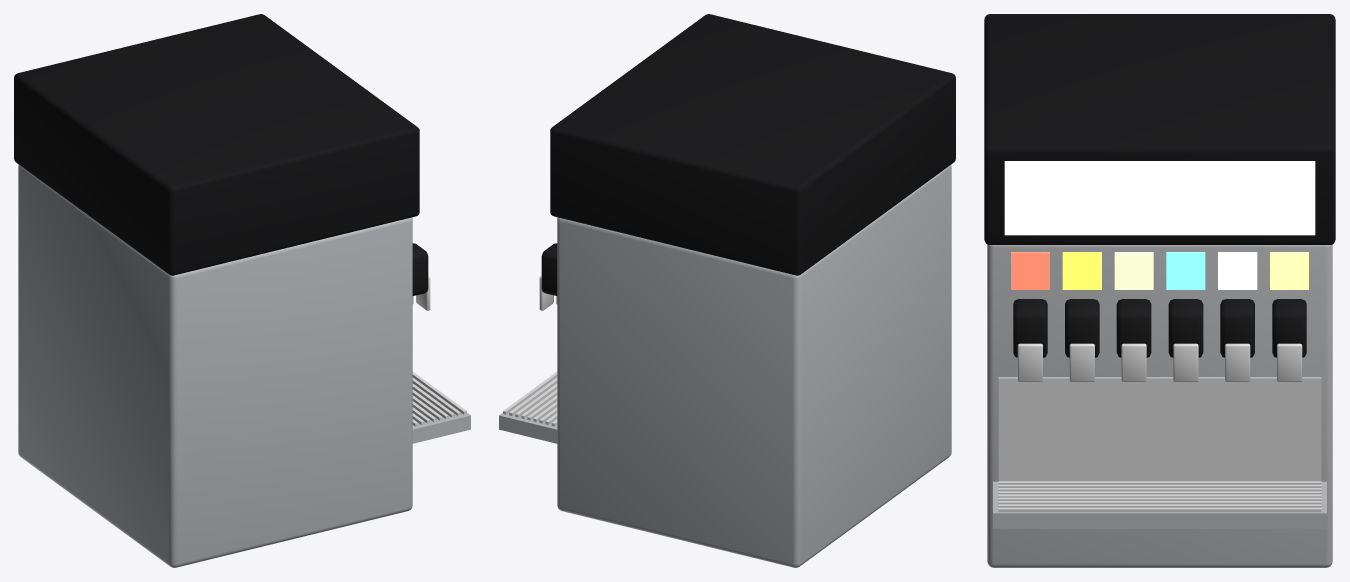
File: drinks_tower.glb
3 renders of one model, left to right at view 1: azimuth 30°, elevation 25°; view 2: azimuth 150°, elevation 25°; view 3: azimuth 270°, elevation 25°, orthographic. The views are drawn at different scales.
Visible parts, largest first — view 1: Body_LOD0, Merch_LOD0, Tray_LOD0, Valve_LOD0; view 2: Body_LOD0, Merch_LOD0, Tray_LOD0, Valve_LOD0.005; view 3: Merch_LOD0, Body_LOD0, Splash_LOD0, MerchLight_LOD0, Tray_LOD0, Grate_LOD0.008, Valve_LOD0.002, Valve_LOD0.003, Valve_LOD0.001, Valve_LOD0.004, Valve_LOD0, Valve_LOD0.005 (+20 smaller).
Boxes of the visible parts, box(x1,y1,x2,y2) form: Body_LOD0: box(18, 165, 412, 567); Merch_LOD0: box(14, 14, 419, 275); Tray_LOD0: box(412, 413, 470, 443); Valve_LOD0: box(412, 243, 428, 295); Body_LOD0: box(557, 165, 951, 567); Merch_LOD0: box(550, 14, 955, 275); Tray_LOD0: box(499, 413, 557, 443); Valve_LOD0.005: box(541, 243, 557, 295); Merch_LOD0: box(984, 14, 1335, 244); Body_LOD0: box(987, 244, 1332, 567); Splash_LOD0: box(998, 377, 1321, 481); MerchLight_LOD0: box(1004, 161, 1315, 235); Tray_LOD0: box(993, 481, 1326, 528); Grate_LOD0.008: box(998, 507, 1321, 512); Valve_LOD0.002: box(1116, 299, 1151, 357); Valve_LOD0.003: box(1168, 299, 1203, 357); Valve_LOD0.001: box(1065, 299, 1099, 357); Valve_LOD0.004: box(1220, 299, 1254, 357); Valve_LOD0: box(1013, 299, 1047, 357); Valve_LOD0.005: box(1272, 299, 1306, 357).
Size of the model in its own units: 0.676 by 0.815 by 0.61.
